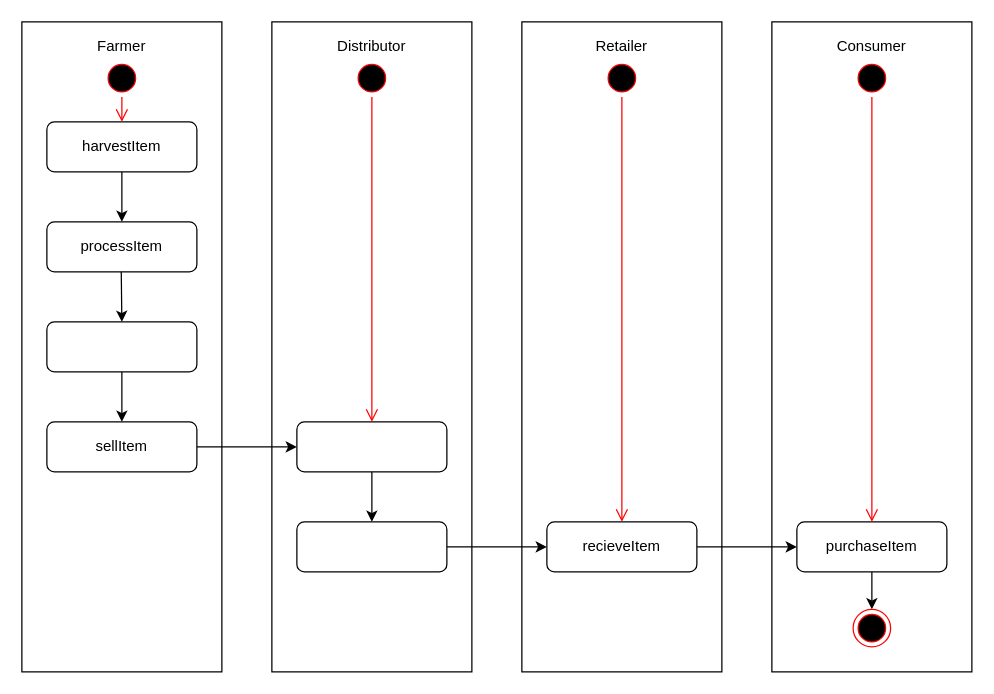
This 994x694 diagram has some shape labels left out. Here are the shapes that lost their labels. From the top down, the centre of each, then its label:
At point (121, 346): "packItem".
At point (371, 446): "buyItem".
At point (371, 546): "shipItem".
